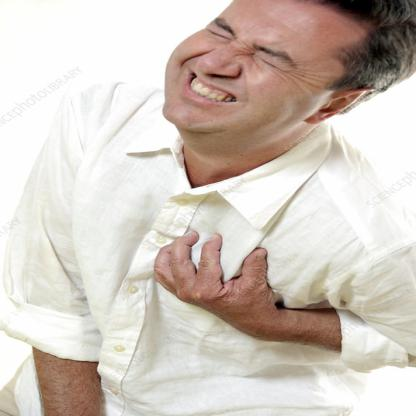pain: (204, 12, 306, 85)
